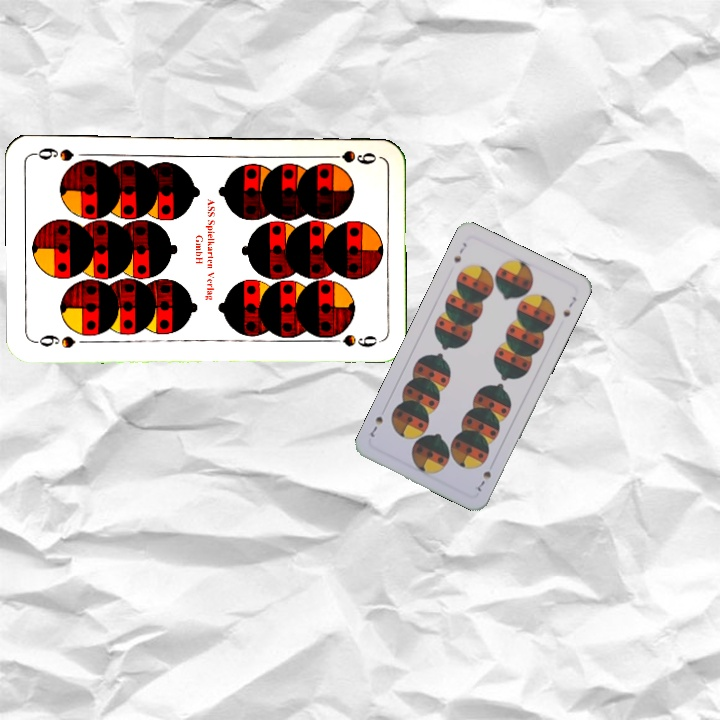S7: (473, 467, 494, 494), (450, 238, 469, 265)
S9: (320, 146, 379, 167), (31, 330, 78, 351)
